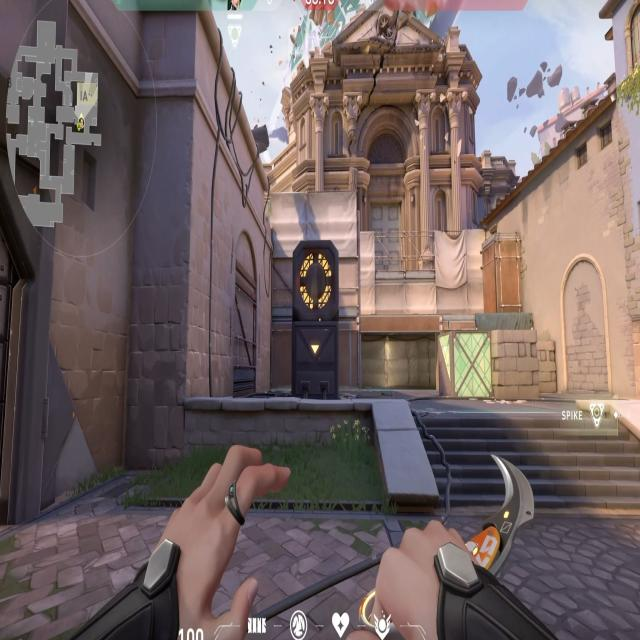A_Heaven_Box: (474, 228, 526, 320)
A_Heaven_Wall: (261, 176, 369, 304)
A_Hell: (348, 305, 450, 403)
A_Site_Box: (434, 320, 547, 407)
